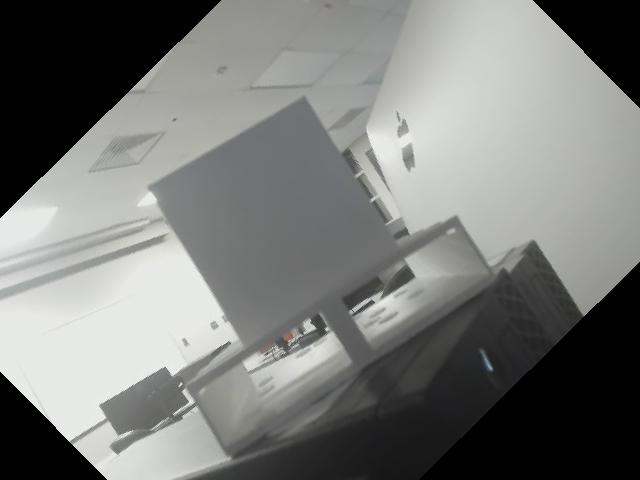white pallet: (126, 94, 527, 476)
